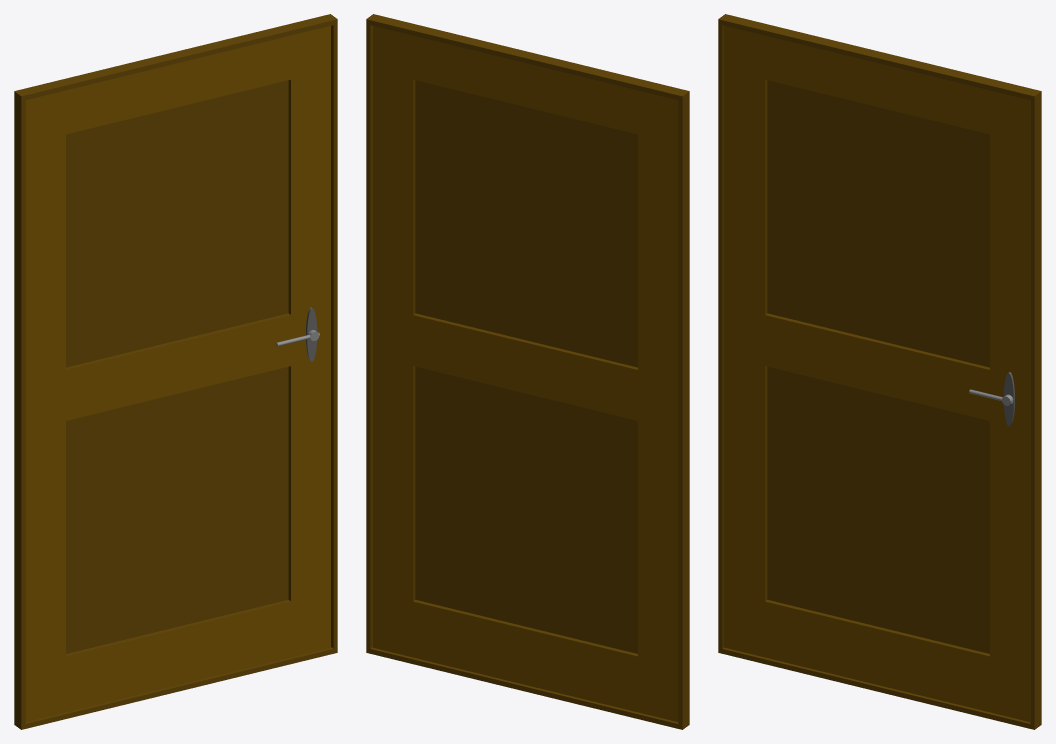
File: Door.fbx
3 renders of one model, left to right at view 1: azimuth 30°, elevation 25°; view 2: azimuth 150°, elevation 25°; view 3: azimuth 330°, elevation 25°, orthographic.
Visible parts, largest first — view 1: pPlane1, pCube7, pCube3; view 2: pPlane1, pCube7, pCube3; view 3: pPlane1, pCube7, pCube3.
Boxes of the visible parts, x1=… form: pPlane1: x1=66, y1=80, x2=288, y2=653; pCube7: x1=25, y1=26, x2=330, y2=721; pCube3: x1=14, y1=14, x2=337, y2=729; pPlane1: x1=415, y1=80, x2=637, y2=653; pCube7: x1=373, y1=26, x2=678, y2=721; pCube3: x1=366, y1=14, x2=689, y2=729; pPlane1: x1=767, y1=80, x2=989, y2=653; pCube7: x1=723, y1=25, x2=1030, y2=721; pCube3: x1=718, y1=14, x2=1041, y2=729.
Bounding box in the file's own units: 58.22 × 111 × 3.19.
